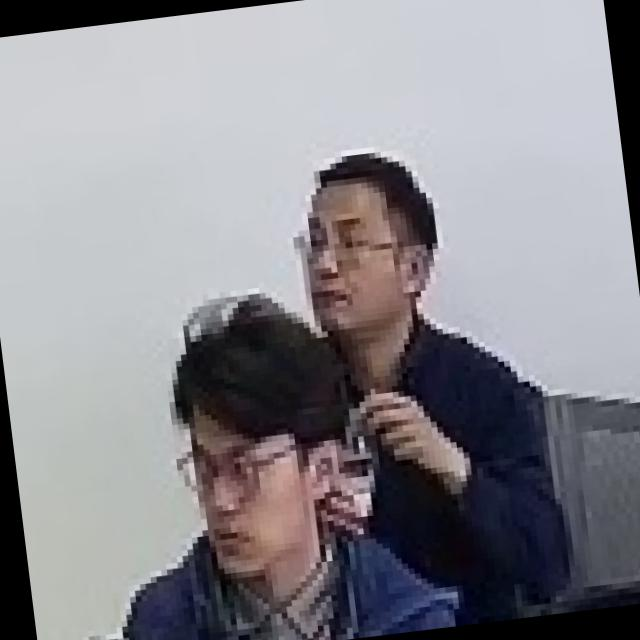drink: (242, 111, 584, 604)
listen: (100, 257, 447, 640)
